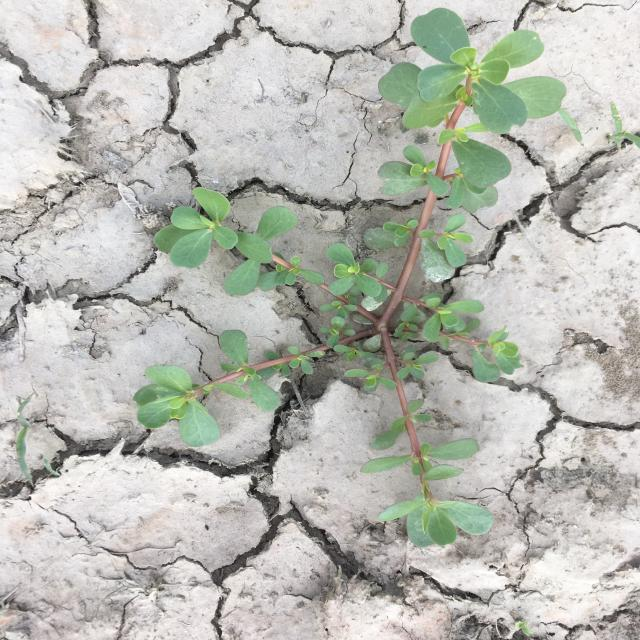Purslane: (130, 7, 568, 548)
